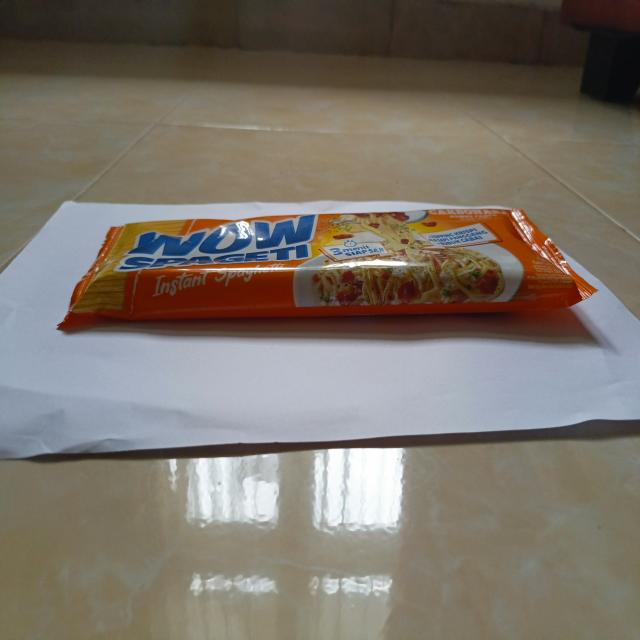indomie-tori-miso: (54, 206, 599, 332)
